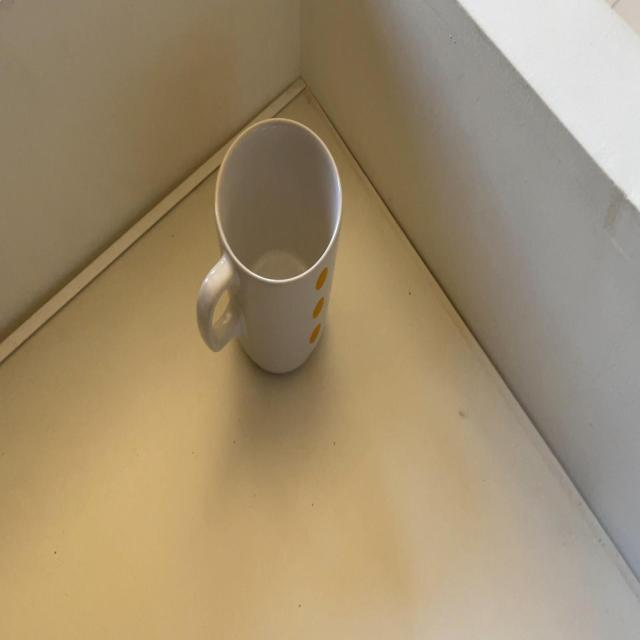cup: (199, 120, 345, 372)
